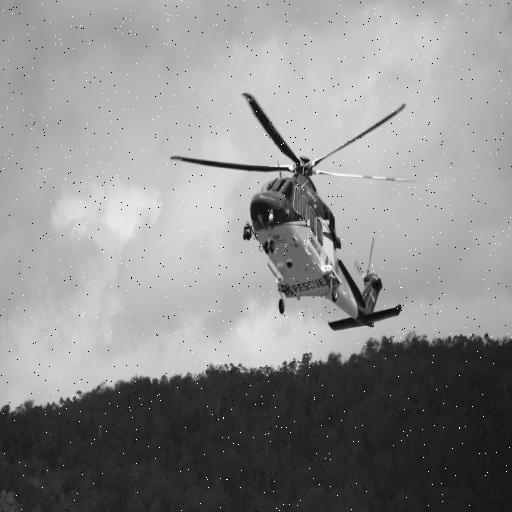helicopter: (168, 93, 419, 337)
